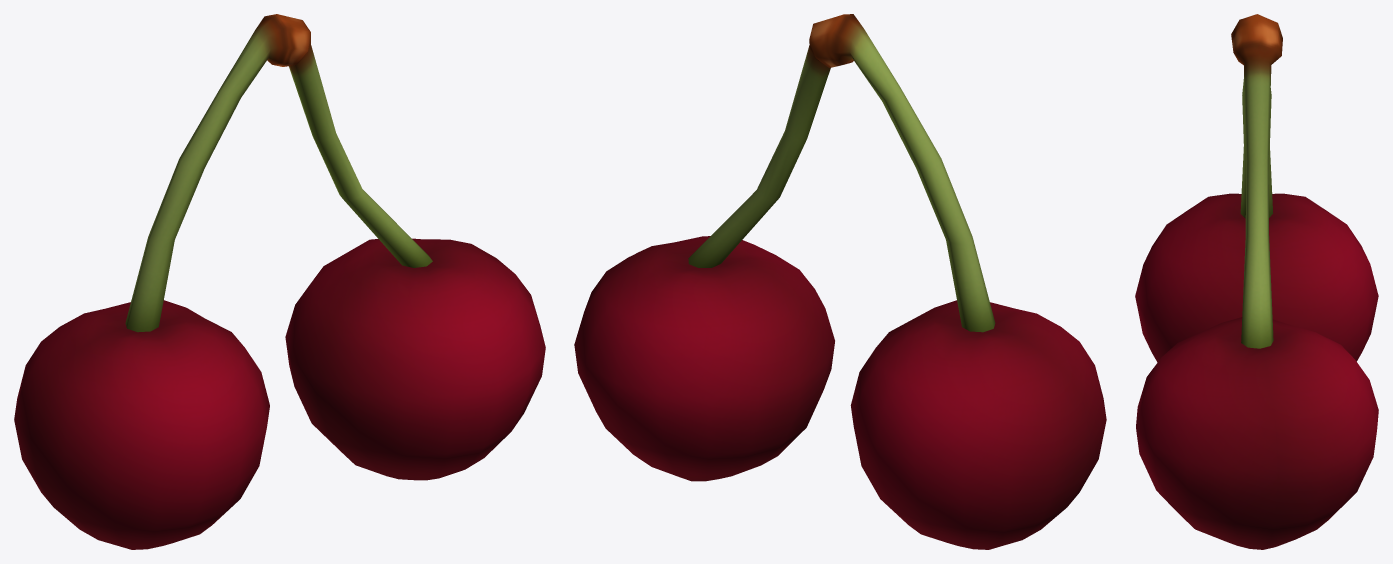
File: Cherries_DrkRed.fbx
3 renders of one model, left to right at view 1: azimuth 30°, elevation 25°; view 2: azimuth 150°, elevation 25°; view 3: azimuth 270°, elevation 25°, orthographic. The views are drawn at different scales.
Visible parts, largest first — view 1: Cherries_DrkRed; view 2: Cherries_DrkRed; view 3: Cherries_DrkRed.
Boxes of the visible parts, x1,y1,x2,y2 form: Cherries_DrkRed: (14, 14, 545, 549); Cherries_DrkRed: (574, 14, 1106, 549); Cherries_DrkRed: (1135, 14, 1378, 549).
Bounding box in the file's own units: 32.21 × 30.46 × 14.52.
